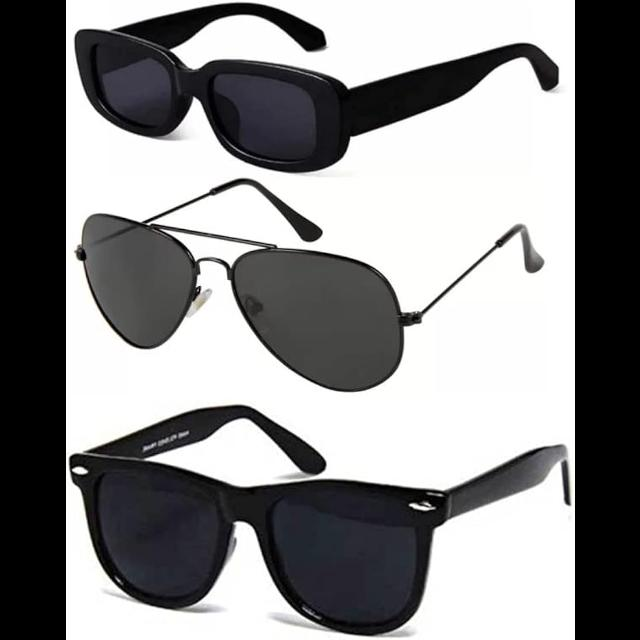Sunglasses: (68, 407, 574, 640), (68, 190, 558, 394), (69, 1, 565, 177)
